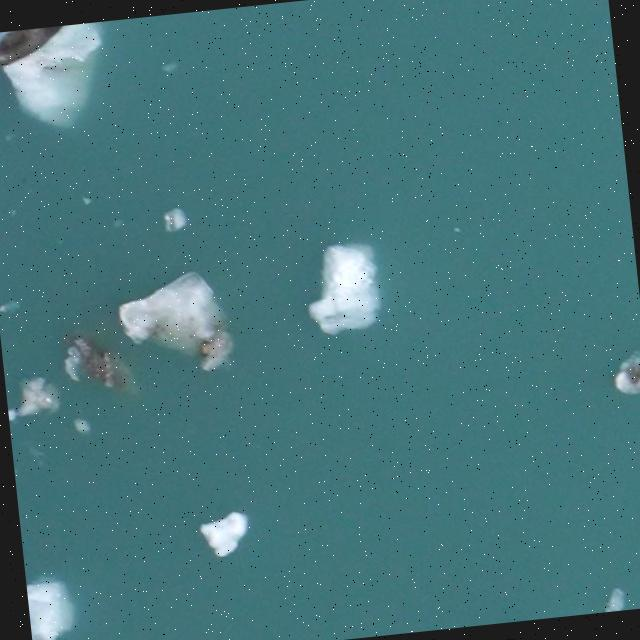seal: (0, 25, 63, 65)
